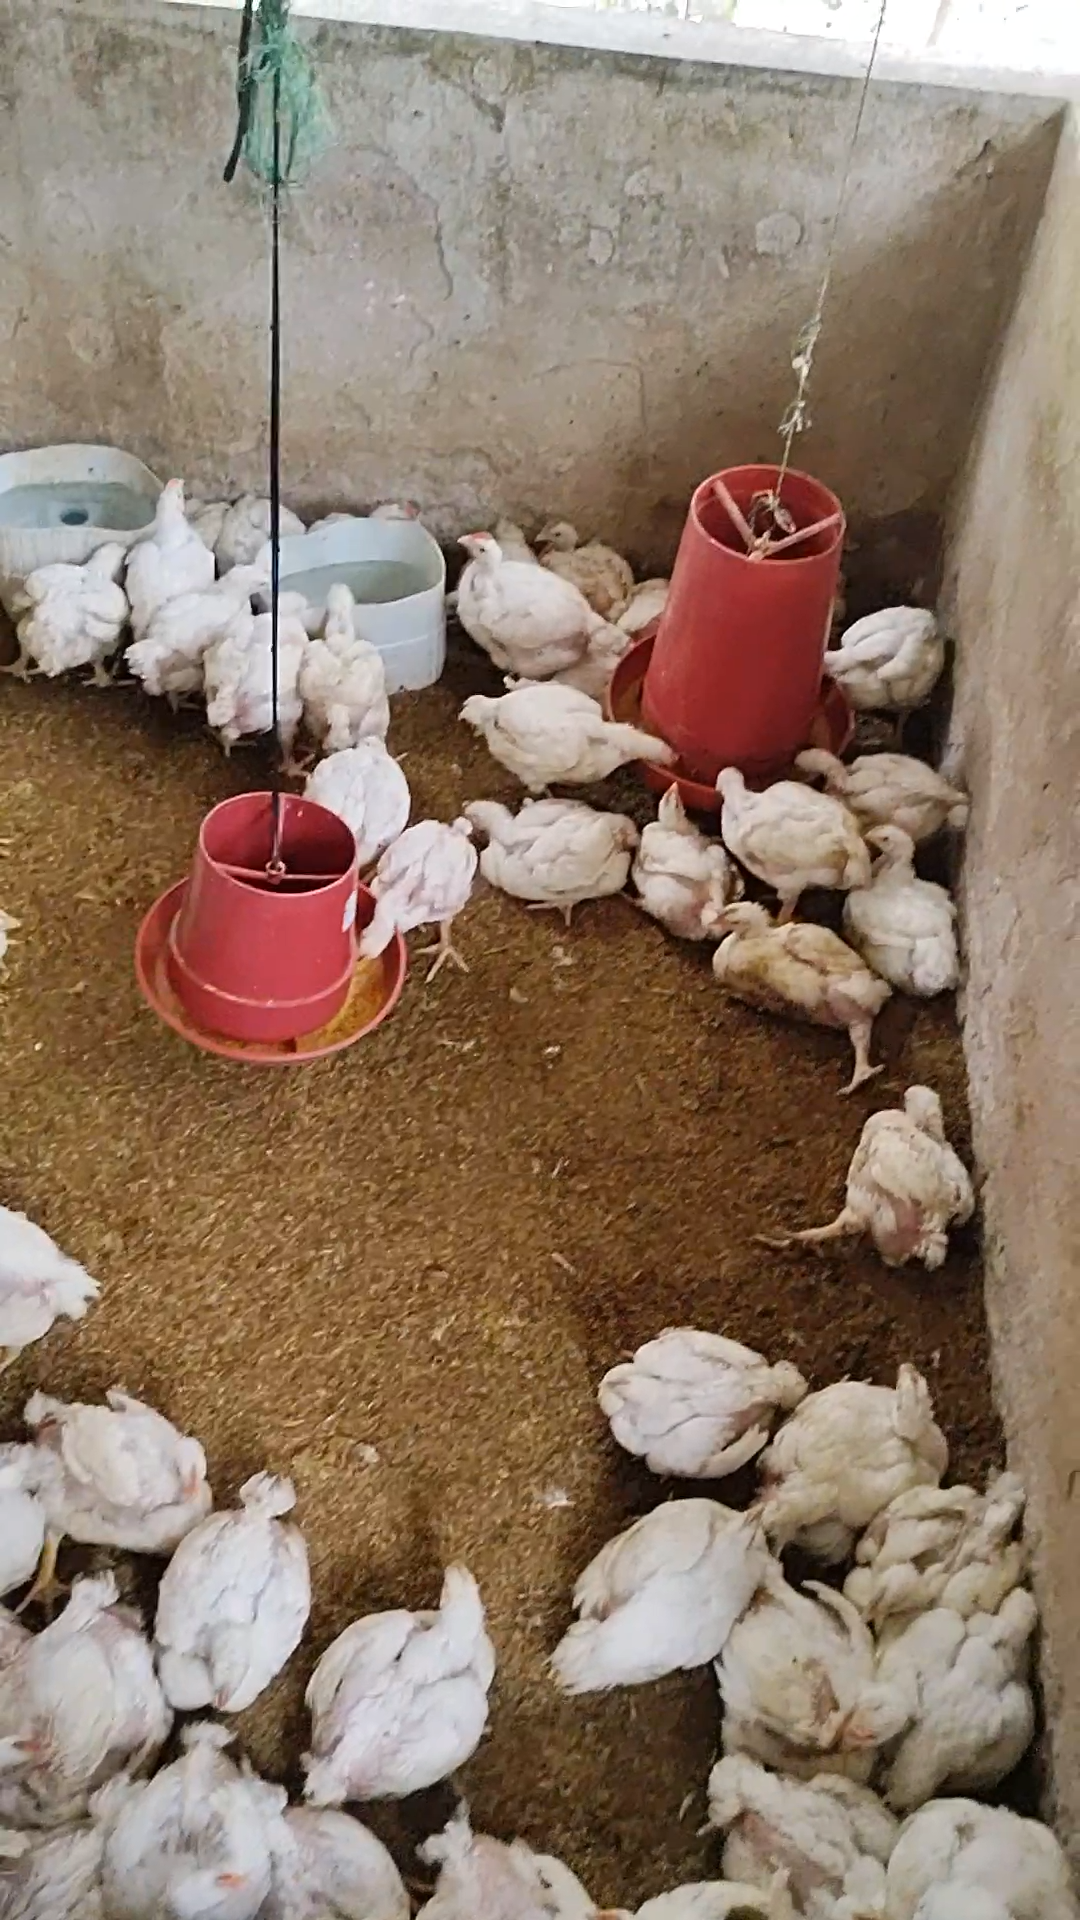Pollos: (545, 1476, 789, 1700), (290, 1556, 501, 1809), (0, 1543, 166, 1815), (764, 1077, 978, 1276), (150, 1464, 316, 1718), (864, 1592, 1055, 1801), (757, 1338, 949, 1538), (98, 1713, 280, 1920), (687, 1745, 895, 1920), (589, 1317, 795, 1493), (707, 1563, 884, 1766), (22, 1387, 214, 1567), (440, 526, 640, 684), (847, 1476, 1029, 1640), (699, 895, 891, 1044), (454, 670, 686, 793), (702, 760, 866, 919), (882, 1791, 1080, 1920), (135, 556, 291, 717), (456, 783, 634, 924), (843, 818, 969, 998), (3, 531, 140, 691), (349, 818, 480, 984), (789, 735, 976, 839), (208, 591, 320, 756), (293, 727, 423, 866), (632, 771, 731, 945), (302, 582, 397, 756), (814, 599, 949, 717), (128, 473, 214, 655), (531, 513, 636, 609)
